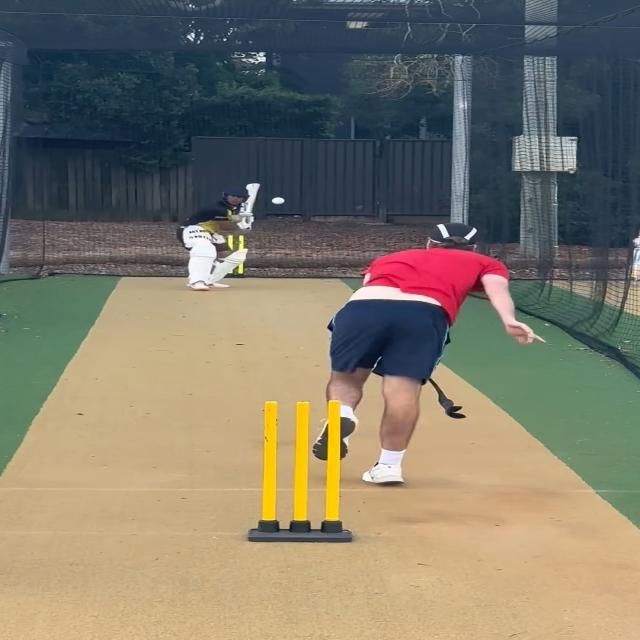ball: (268, 196, 288, 206)
stump: (247, 398, 356, 544)
